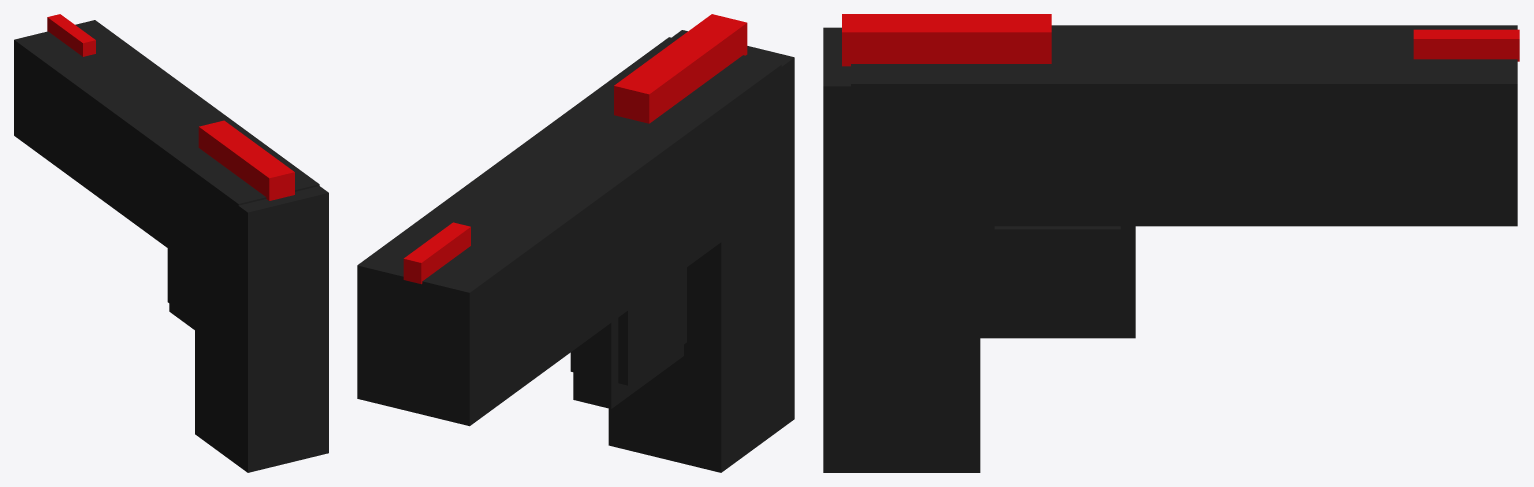
The model's file is gun.fbx.
3 views of the same model, side by side, from view 1: azimuth 30°, elevation 25°; view 2: azimuth 150°, elevation 25°; view 3: azimuth 270°, elevation 25° (orthographic). The views are drawn at different scales.
Parts seen in each view (by area): view 1: Cube.001, Cube.003; view 2: Cube.001, Cube.003; view 3: Cube.001, Cube.003.
Part boxes in pixels (<box>): Cube.001: <box>14,14,328,472</box>; Cube.003: <box>167,248,194,321</box>; Cube.001: <box>357,14,794,472</box>; Cube.003: <box>570,267,686,385</box>; Cube.001: <box>823,14,1519,472</box>; Cube.003: <box>994,226,1120,320</box>.
Bounding box in the file's own units: 139 × 463 × 696.
